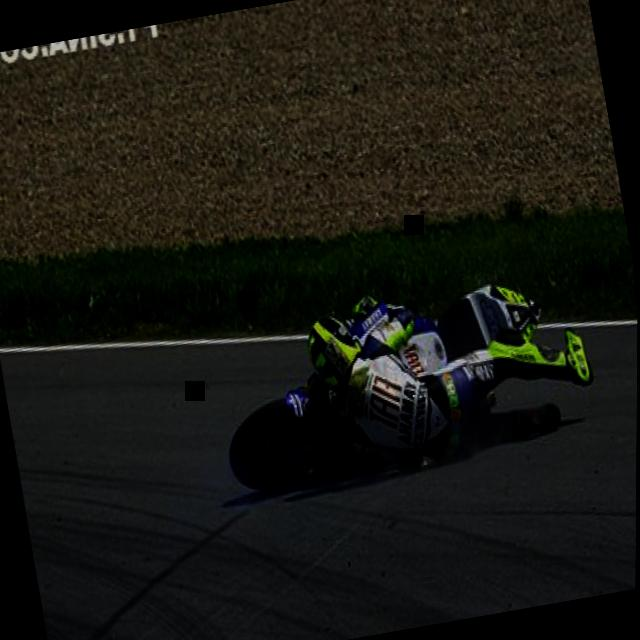Fall-Detected: (284, 221, 607, 497)
